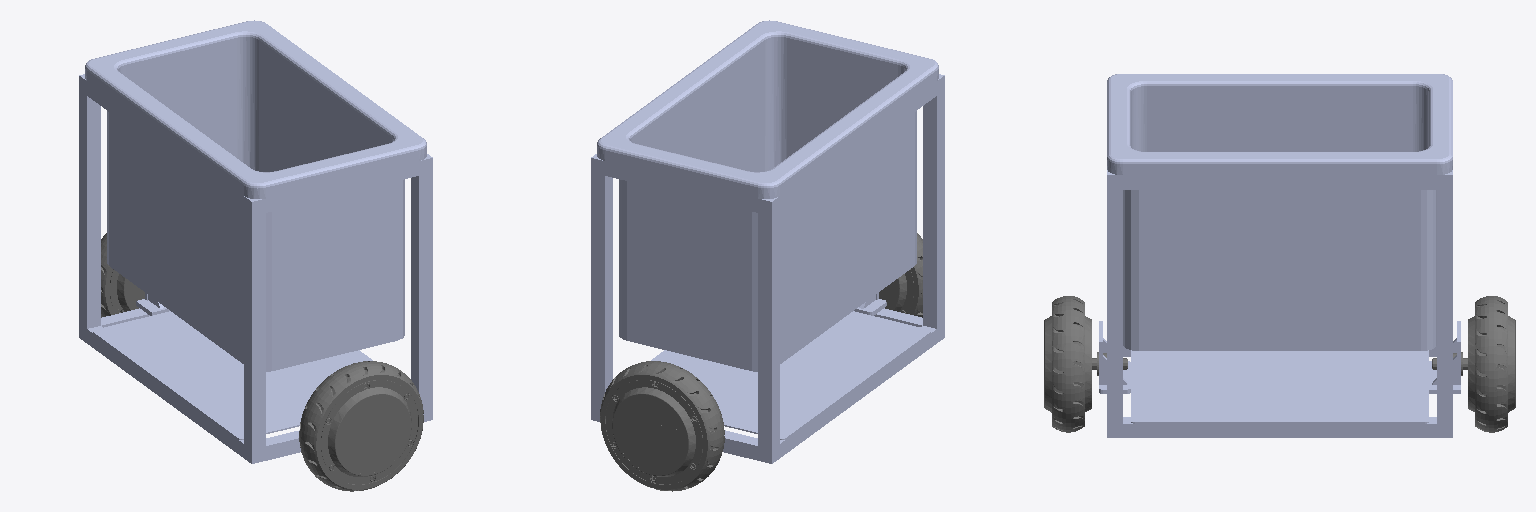
URDF robot description (2wheels):
<?xml version="1.0" encoding="utf-8"?>
<!-- This URDF was automatically created by SolidWorks to URDF Exporter! Originally created by Stephen Brawner (brawner@gmail.com) 
     Commit Version: 1.6.0-4-g7f85cfe  Build Version: 1.6.7995.38578
     For more information, please see http://wiki.ros.org/sw_urdf_exporter -->
<robot
  name="2wheels">
  <link
    name="base_link">
    <inertial>
      <origin xyz="0.00173 0.00008 0.11329" rpy="0 0 0" />
      <mass value="19.1" />
      <inertia 
        ixx="0.3804" ixy="0.0" ixz="0.0" 
        iyy="0.1761" iyz="0.0" 
        izz="0.2706" />
    </inertial>
    <visual>
      <origin
        xyz="0 0 0"
        rpy="0 0 0" />
      <geometry>
        <mesh
          filename="package://2wheels/meshes/base_link.STL" />
      </geometry>
      <material
        name="">
        <color
          rgba="0.792156862745098 0.819607843137255 0.933333333333333 1" />
      </material>
    </visual>
    <collision>
      <origin
        xyz="0 0 0"
        rpy="0 0 0" />
      <geometry>
        <mesh
          filename="package://2wheels/meshes/base_link.STL" />
      </geometry>
    </collision>
  </link>
  <link
    name="left_wheel_link">
    <inertial>
      <origin xyz="0 0 0" rpy="0 0 0" />
      <mass value="2.95" />
      <inertia 
        ixx="0.00574" ixy="0.0" ixz="0.0" 
        iyy="0.01066" iyz="0.0" 
        izz="0.00574" />
    </inertial>
    <visual>
      <origin
        xyz="0 0 0"
        rpy="0 0 0" />
      <geometry>
        <mesh
          filename="package://2wheels/meshes/left_wheel_Link.STL" 
        />
      </geometry>
      <material
        name="">
        <color
          rgba="0.49804 0.49804 0.49804 1" />
      </material>
    </visual>
    <collision>
      <origin
        xyz="0 0 0"
        rpy="1.57 0 0" />
      <geometry>
          <cylinder radius="0.085" length="0.041"/>
      </geometry>
    </collision>
  </link>
  <joint
    name="left_wheel_joint"
    type="continuous">
    <origin
      xyz="0 -0.2625 0"
      rpy="0 0 0" />
    <parent
      link="base_link" />
    <child
      link="left_wheel_link" />
    <axis
      xyz="0 1 0" />
    <limit
      effort="12"
      velocity="7.27" />
  </joint>
  <gazebo reference="left_wheel_link">
    <kp>1000000.0</kp>
    <kd>1000.0</kd>
    <mu1>1.0</mu1>
    <mu2>0.1</mu2>
    <fdir1>1 0 0</fdir1>
    <maxVel>1.0</maxVel>
    <minDepth>0.00</minDepth>
    <implicitSpringDamper>1</implicitSpringDamper>
    <material>Gazebo/Grey</material>
  </gazebo>
  <link
    name="right_wheel_link">
    <inertial>
      <origin xyz="0 0 0" rpy="0 0 0" />
      <mass value="2.95" />
      <inertia 
        ixx="0.00574" ixy="0.0" ixz="0.0" 
        iyy="0.01066" iyz="0.0" 
        izz="0.00574" />
    </inertial>
    <visual>
      <origin
        xyz="0 0 0"
        rpy="0 0 0" />
      <geometry>
        <mesh
          filename="package://2wheels/meshes/right_wheel_Link.STL" />
      </geometry>
      <material
        name="">
        <color
          rgba="0.49804 0.49804 0.49804 1" />
      </material>
    </visual>
    <collision>
      <origin
        xyz="0 0 0"
        rpy="1.57 0 0" />
      <geometry>
        <cylinder radius="0.085" length="0.041"/>
      </geometry>
    </collision>
  </link>
  <joint
    name="right_wheel_joint"
    type="continuous">
    <origin
      xyz="0 0.2625 0"
      rpy="0 0 0" />
    <parent
      link="base_link" />
    <child
      link="right_wheel_link" />
    <axis
      xyz="0 1 0" />
    <limit
      effort="12"
      velocity="7.27" />
  </joint>
  <gazebo reference="right_wheel_link">
    <kp>1000000.0</kp>
    <kd>1000.0</kd>
    <mu1>1.0</mu1>
    <mu2>0.1</mu2>
    <fdir1>1 0 0</fdir1>
    <maxVel>1.0</maxVel>
    <minDepth>0.00</minDepth>
    <implicitSpringDamper>1</implicitSpringDamper>
    <material>Gazebo/Grey</material>
  </gazebo>
  <ros2_control name="selfbalancerobot_system" type="system">
    <hardware>
      <plugin>gz_ros2_control/GazeboSimSystem</plugin>
    </hardware>
    <joint name="right_wheel_joint">
      <command_interface name="velocity">
        <param name="min">-7.27</param>
        <param name="max">7.27</param>
      </command_interface>
      <command_interface name="effort">
        <param name="min">-12</param>
        <param name="max">12</param>
      </command_interface>
      <state_interface name="position"/>
      <state_interface name="velocity"/>
      <state_interface name="effort"/>
    </joint>
    <joint name="left_wheel_joint">
      <command_interface name="velocity">
        <param name="min">-7.27</param>
        <param name="max">7.27</param>
      </command_interface>
      <command_interface name="effort">
        <param name="min">-12</param>
        <param name="max">12</param>
      </command_interface>
      <state_interface name="position"/>
      <state_interface name="velocity"/>
      <state_interface name="effort"/>
    </joint>
  </ros2_control>
  <link name="base_imu_link">
    <inertial>
      <mass value="0.01"/>
      <origin xyz="0 0 0"/>
      <inertia ixx="0.000001" ixy="0" ixz="0" iyy="0.000001" iyz="0" izz="0.000001"/>
    </inertial>
  </link>
  <joint name="base_imu_joint" type="fixed">
    <parent link="base_link"/>
    <child link="base_imu_link"/>
    <origin rpy="0 0 0" xyz="0 0 0"/>
  </joint>
  <gazebo reference="base_imu_link">
    <sensor name="base_imu_sensor" type="imu">
      <always_on>1</always_on>
      <update_rate>100.0</update_rate>
      <visualize>true</visualize>
      <topic>base_imu</topic>
      <gz_frame_id>base_imu_link</gz_frame_id>
    </sensor>
  </gazebo>
  <gazebo>
    <plugin filename="libgz_ros2_control-system.so"
            name="gz_ros2_control::GazeboSimROS2ControlPlugin">
      <parameters>/home/nahhao74/Robot_sim_ws/install/2wheels/share/2wheels/config/controller.yaml</parameters>
    </plugin>
    <plugin
      filename="gz-sim-imu-system"
      name="gz::sim::systems::Imu">
    </plugin>
  </gazebo>

</robot>

--- Facts derived from the render (not from the file) ---
Views: 3 orthographic renders of the robot side by side, from view 1: azimuth 30°, elevation 25°; view 2: azimuth 150°, elevation 25°; view 3: azimuth 270°, elevation 25°.
Model 2wheels with 4 links and 3 joints (2 continuous, 1 fixed), rooted at base_link, posed every joint at zero.
Visible links, largest first — view 1: base_link, left_wheel_link, right_wheel_link; view 2: base_link, right_wheel_link, left_wheel_link; view 3: base_link, right_wheel_link, left_wheel_link.
Link boxes in pixels (x1,y1,x2,y2): base_link: (79,20,432,463); left_wheel_link: (299,361,423,491); right_wheel_link: (101,233,144,317); base_link: (591,20,944,463); right_wheel_link: (600,361,724,491); left_wheel_link: (879,233,922,317); base_link: (1099,74,1460,437); right_wheel_link: (1432,296,1515,432); left_wheel_link: (1044,296,1127,432).
Size in the robot's own frame: 0.26 by 0.5842 by 0.4239 metres.
3 mesh visuals loaded from 3 distinct referenced files (3 binary STL).
